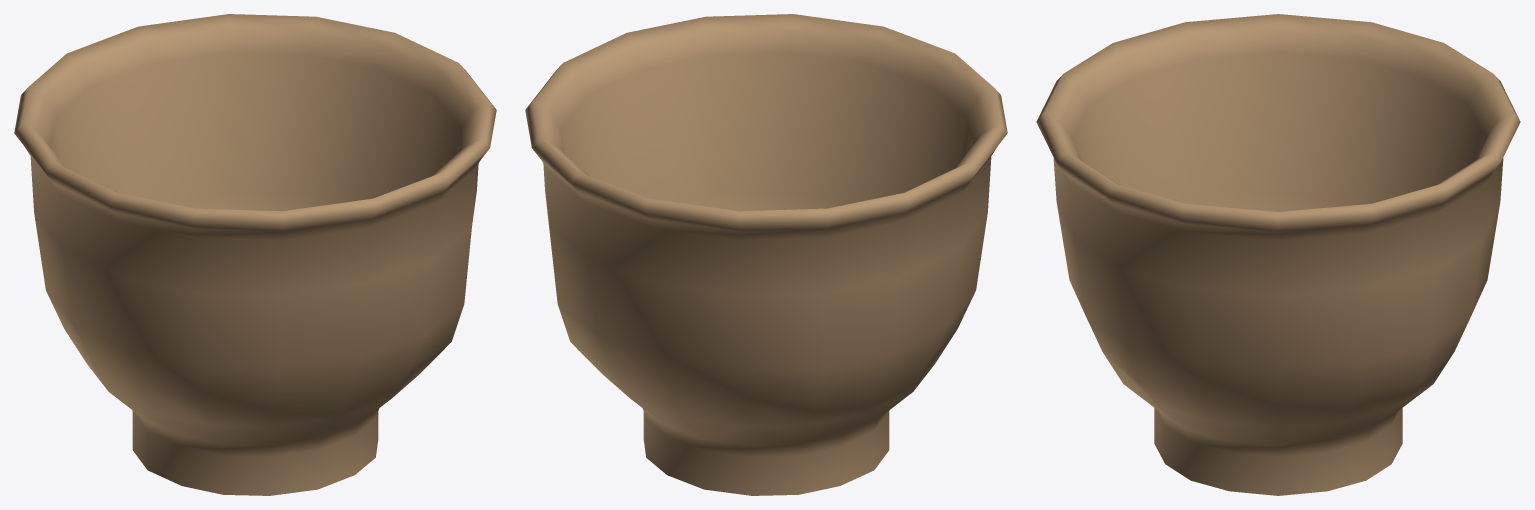
The model's file is cup.fbx.
3 renders of one model, left to right at view 1: azimuth 30°, elevation 25°; view 2: azimuth 150°, elevation 25°; view 3: azimuth 270°, elevation 25°, orthographic.
Parts seen in each view (by area): view 1: cup; view 2: cup; view 3: cup.
Part boxes in pixels (box(x1,y1,x2,y2)): cup: box(14, 14, 496, 495); cup: box(525, 14, 1007, 495); cup: box(1036, 14, 1520, 495).
Bounding box in the file's own units: 45.1 × 33.95 × 45.1.
